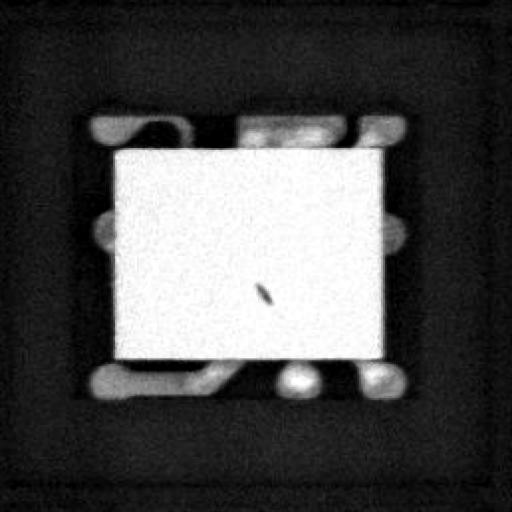DIE_INK: (241, 290, 262, 318)
